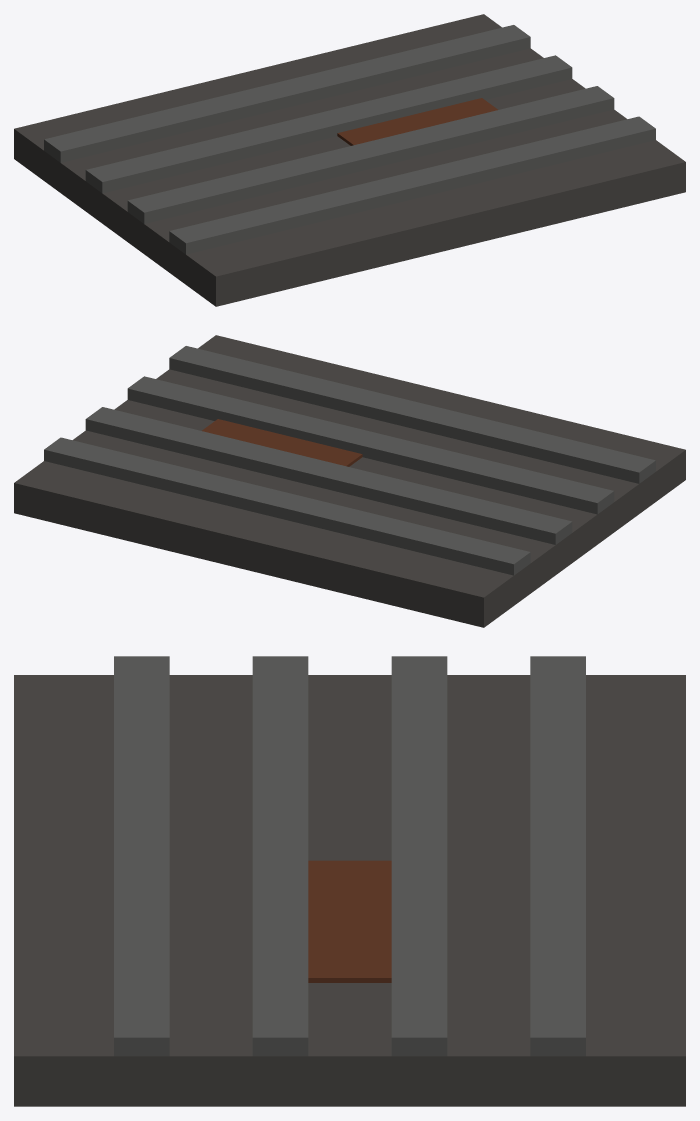
Rendered from bed_floor.glb.
3 renders of one model, top to bottom at view 1: azimuth 30°, elevation 25°; view 2: azimuth 150°, elevation 25°; view 3: azimuth 270°, elevation 25°, orthographic. The views are drawn at different scales.
Visible parts, largest first — view 1: bed_floor; view 2: bed_floor; view 3: bed_floor.
Part boxes in pixels (x1,y1,x2,y2): bed_floor: (14,14,685,306); bed_floor: (14,335,685,627); bed_floor: (14,656,685,1106).
Size of the model in its own units: 0.65 by 0.055 by 0.484.
